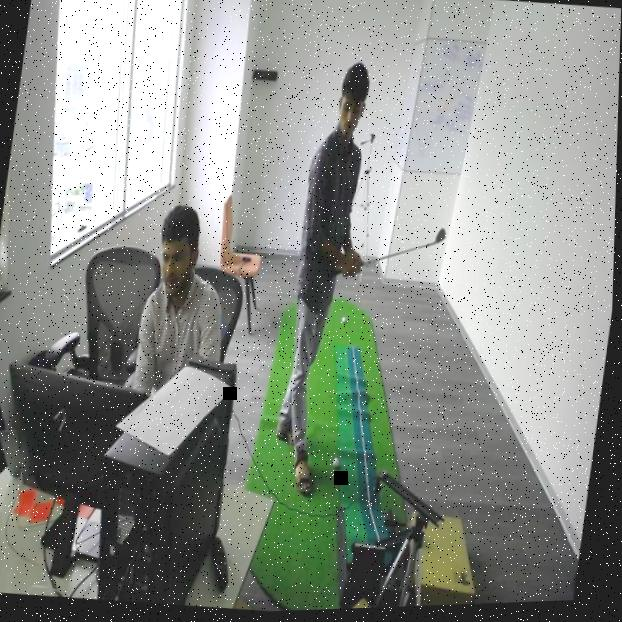ClubHead: (420, 218, 455, 263)
GolfBall: (331, 456, 349, 473), (338, 315, 351, 329)
